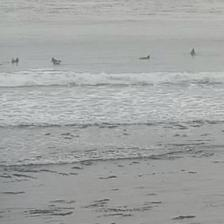surfer: (50, 58, 60, 64), (138, 55, 150, 60), (190, 48, 196, 56), (13, 58, 19, 64), (0, 60, 3, 67)
